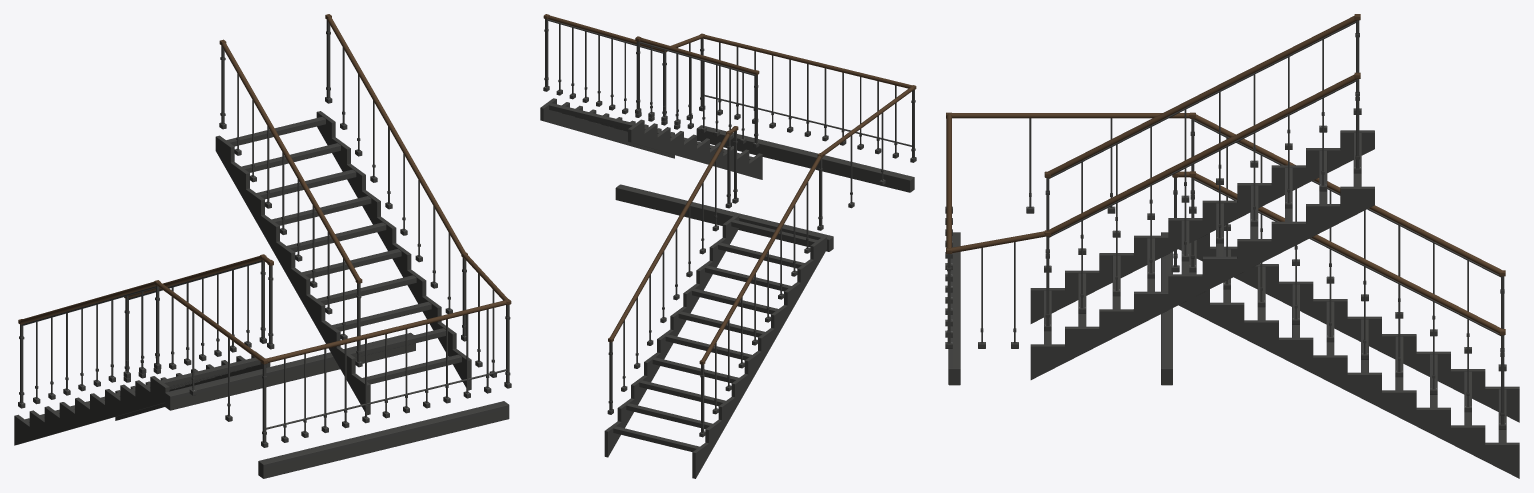
The model's file is stair_ironwork_public.glb.
The picture shows the model from 3 angles, left to right: view 1: azimuth 30°, elevation 25°; view 2: azimuth 150°, elevation 25°; view 3: azimuth 270°, elevation 25°; orthographic projection. The views are drawn at different scales.
Parts seen in each view (by area): view 1: StairStructure, Ironwork_cast_iron, Ironwork_wood_dark; view 2: StairStructure, Ironwork_cast_iron, Ironwork_wood_dark; view 3: StairStructure, Ironwork_cast_iron, Ironwork_wood_dark.
Boxes of the visible parts, x1,y1,x2,y2 form: StairStructure: [14, 111, 509, 478]; Ironwork_cast_iron: [18, 20, 511, 447]; Ironwork_wood_dark: [18, 14, 511, 364]; StairStructure: [540, 98, 914, 478]; Ironwork_cast_iron: [543, 19, 916, 437]; Ironwork_wood_dark: [543, 14, 916, 364]; StairStructure: [948, 130, 1519, 478]; Ironwork_cast_iron: [945, 20, 1506, 429]; Ironwork_wood_dark: [946, 14, 1505, 335].
Bounding box in the file's own units: 2.7 × 4.4 × 4.76.
